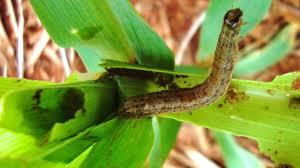fallarmy_worm: (120, 6, 255, 120)
